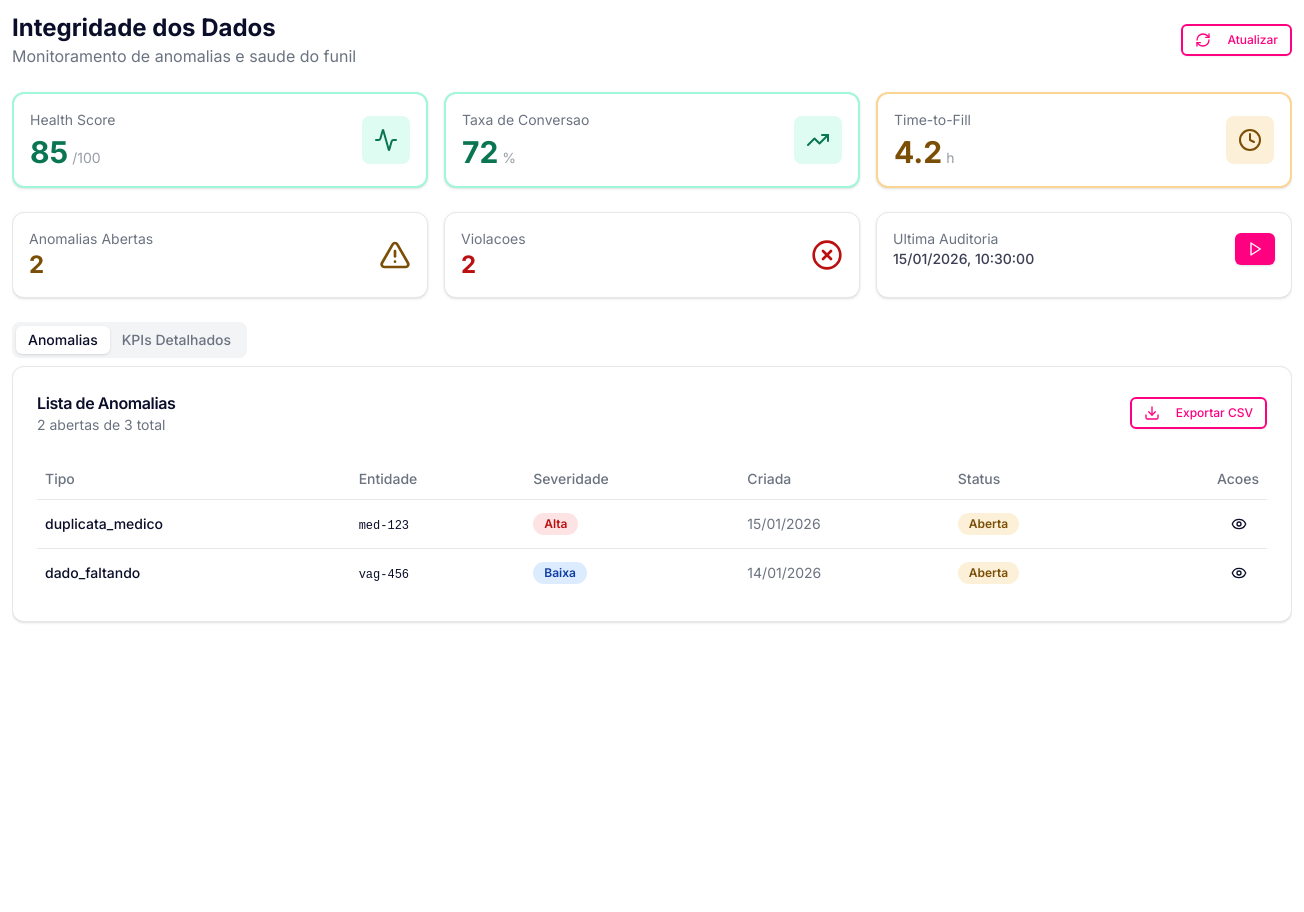
IntegridadePageContent › Tab Switching › switches to KPIs tab
Click the tab "KPIs Detalhados": (176,340) [110,326,243,354]
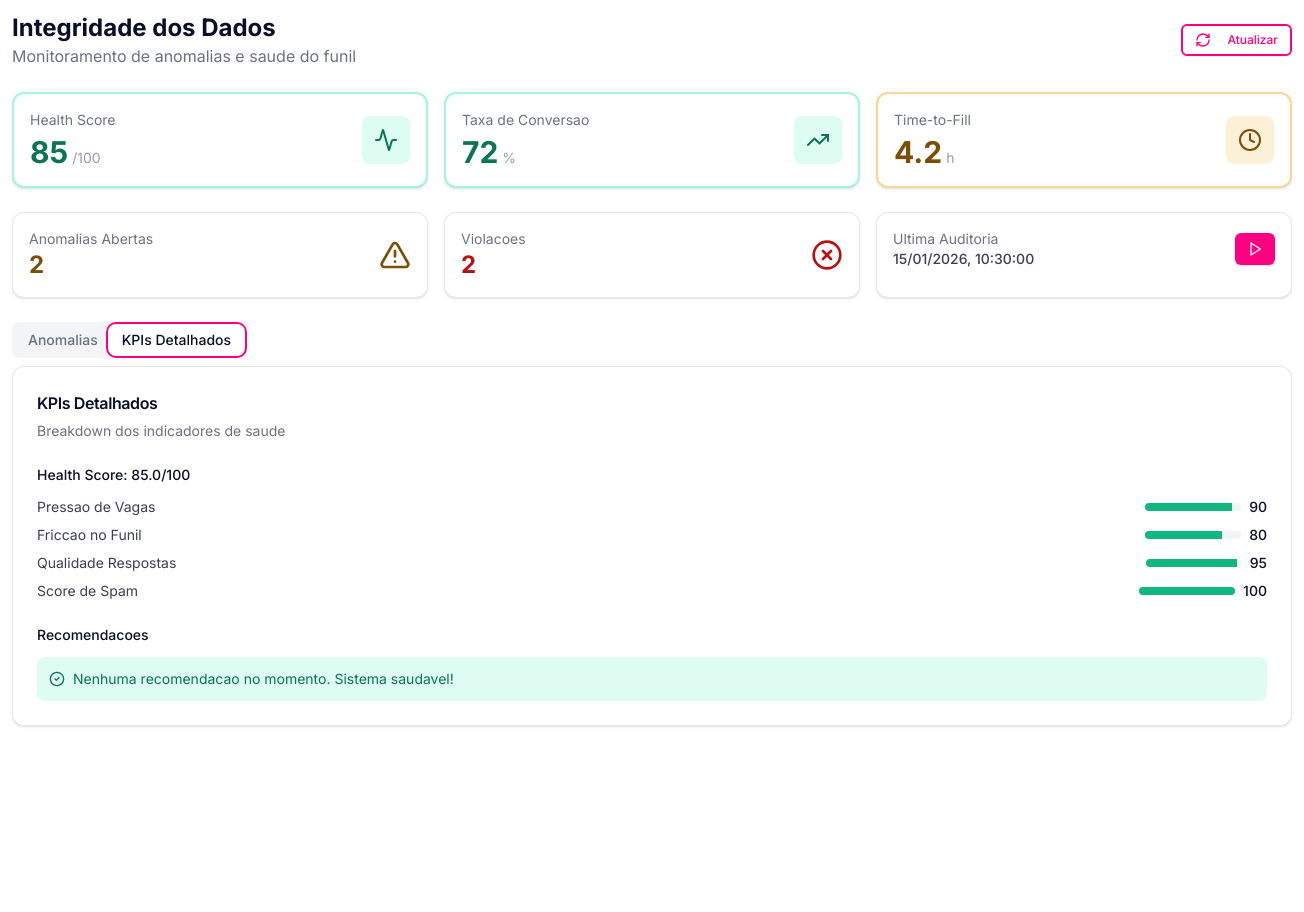
Expected: the text "Breakdown dos indicadores de saude" is shown, [37,422,286,439]
